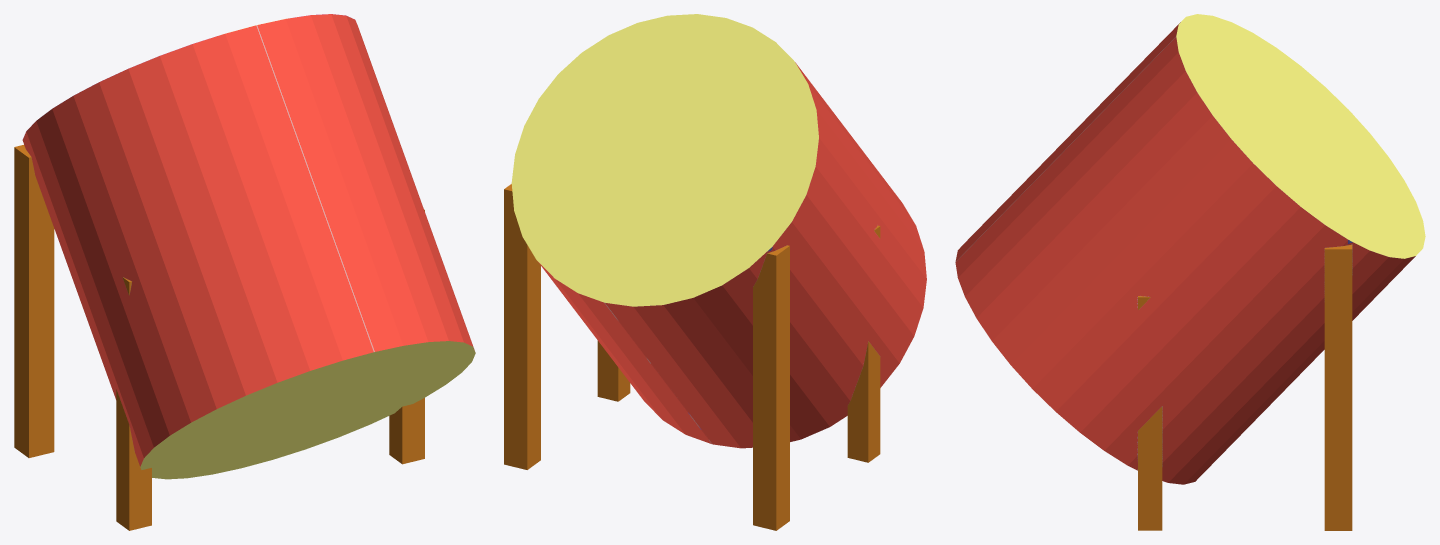
Rendered from taiko.glb.
3 views of the same model, side by side, from view 1: azimuth 30°, elevation 25°; view 2: azimuth 150°, elevation 25°; view 3: azimuth 270°, elevation 25° (orthographic). The views are drawn at different scales.
Visible parts, largest first — view 1: Cube; view 2: Cube; view 3: Cube.
Boxes of the visible parts, left/top/right/bottom form: Cube: left=14, top=14, right=475, bottom=530; Cube: left=504, top=14, right=926, bottom=530; Cube: left=955, top=14, right=1425, bottom=530.
Bounding box in the file's own units: 0.706 × 0.9961 × 0.9948.
Materials: 1 (1 with a texture image).
